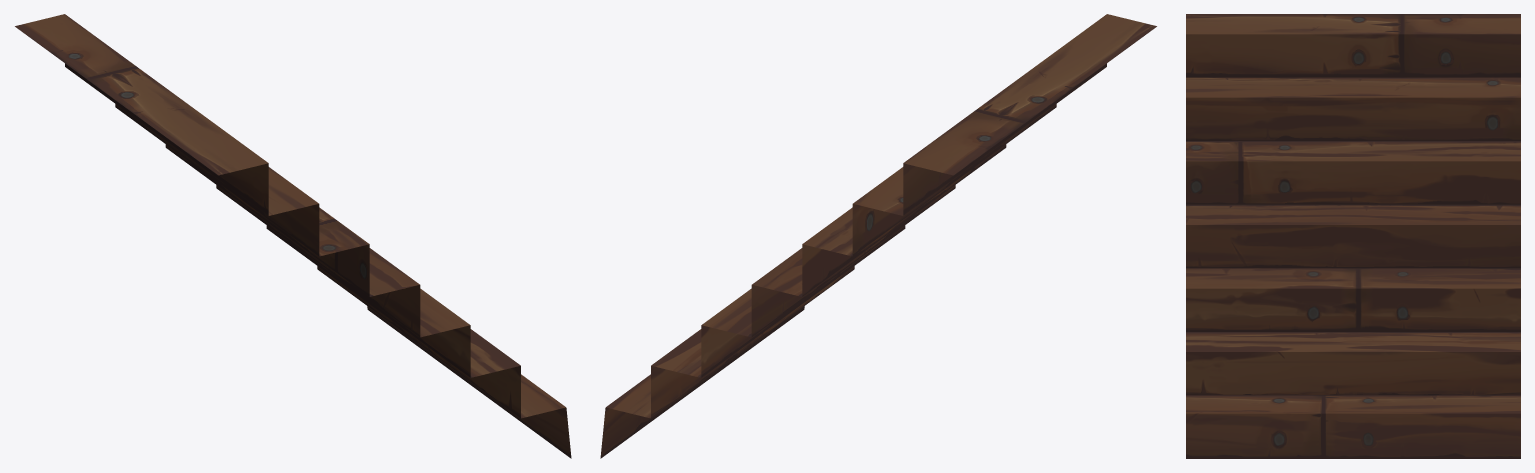
Rendered from MOD_Stairs_02_E_straight_01_half.fbx.
3 renders of one model, left to right at view 1: azimuth 30°, elevation 25°; view 2: azimuth 150°, elevation 25°; view 3: azimuth 270°, elevation 25°, orthographic. The views are drawn at different scales.
Parts seen in each view (by area): view 1: MOD_Stairs_02_E_straight_01_half; view 2: MOD_Stairs_02_E_straight_01_half; view 3: MOD_Stairs_02_E_straight_01_half.
Part boxes in pixels (x1,y1,x2,y2): MOD_Stairs_02_E_straight_01_half: [15, 14, 571, 458]; MOD_Stairs_02_E_straight_01_half: [600, 14, 1156, 458]; MOD_Stairs_02_E_straight_01_half: [1186, 14, 1520, 458].
Bounding box in the file's own units: 200 × 200 × 200.
